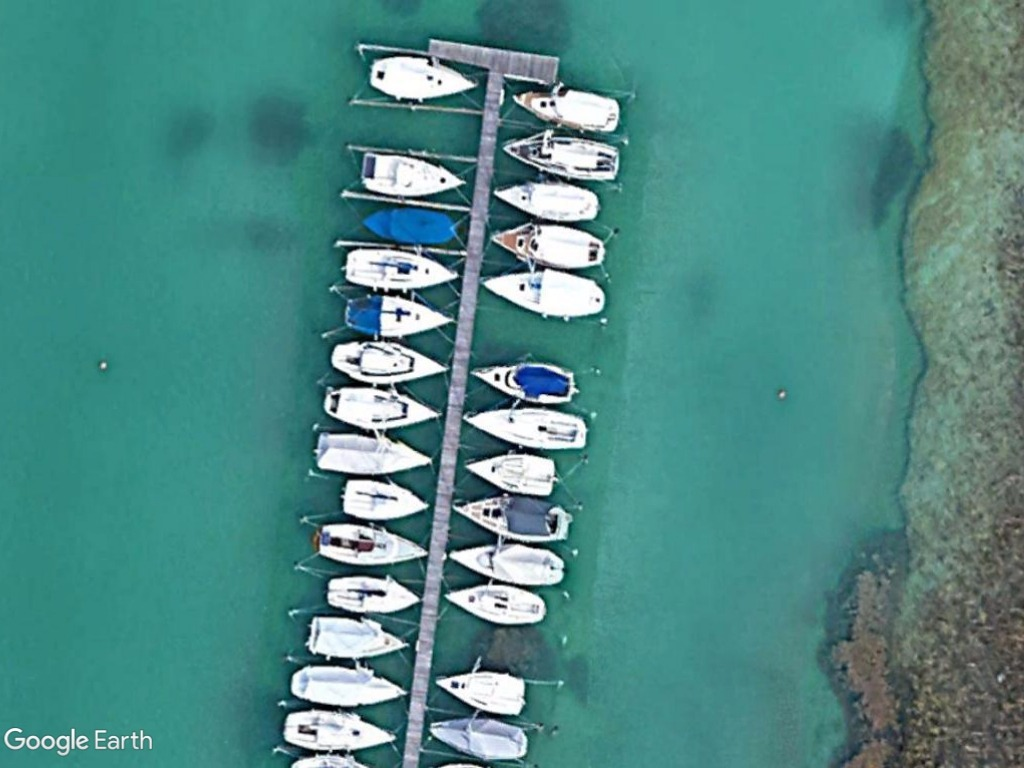boat: (474, 264, 610, 322), (496, 126, 622, 185), (486, 213, 607, 272), (461, 403, 591, 456), (320, 376, 440, 433), (308, 426, 434, 480), (364, 53, 479, 108), (286, 658, 405, 711), (328, 336, 449, 388), (507, 83, 623, 137), (446, 496, 572, 545), (355, 145, 467, 200), (336, 288, 452, 340), (312, 519, 428, 571), (341, 246, 459, 295), (489, 174, 603, 224), (442, 544, 567, 589), (303, 612, 410, 664), (426, 714, 533, 765), (278, 709, 396, 754), (470, 359, 577, 408), (440, 582, 552, 628), (360, 200, 461, 250), (333, 472, 432, 522), (432, 668, 529, 719), (455, 455, 561, 499), (320, 572, 419, 619)
